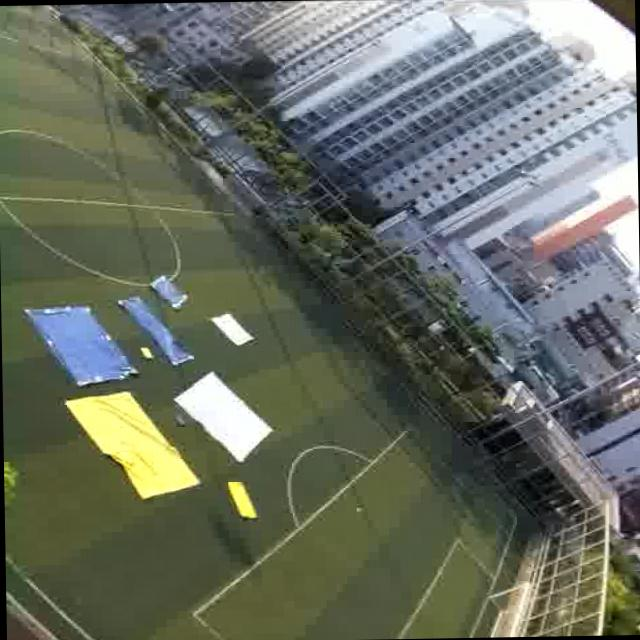danger: (24, 304, 109, 381), (150, 316, 186, 366), (147, 278, 187, 306)
safety: (196, 386, 254, 446), (211, 309, 258, 347)
warning: (84, 395, 158, 494), (220, 474, 262, 522)
